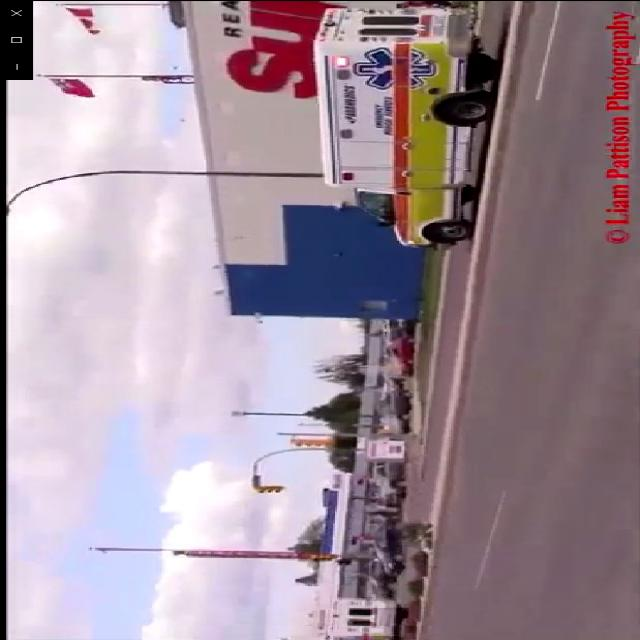emergency: (314, 9, 510, 248), (315, 594, 410, 640)
